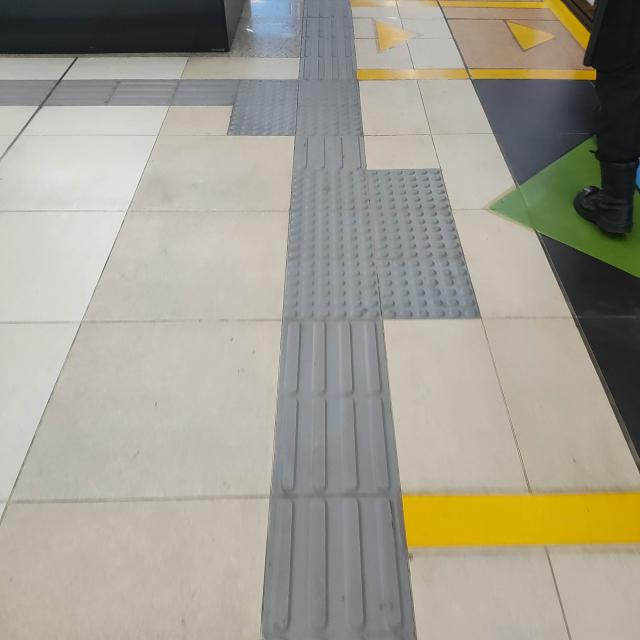lurus: (282, 148, 403, 640)
